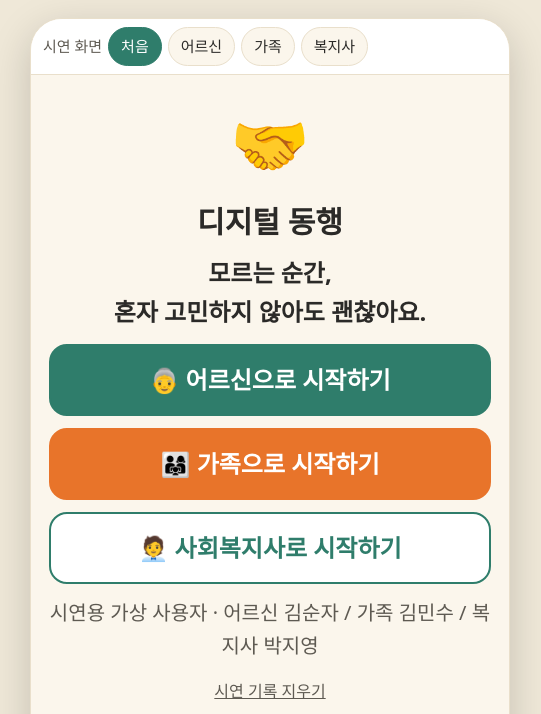
Test: 디지털 동행 주요 흐름 › TEST 1: 시작 화면 → 어르신으로 시작 → 홈
Expected: the text "모르는 순간,혼자 고민하지 않아도 괜찮아요." is shown, [114,256,426,328]
Click the button "👵 어르신으로 시작하기" at (270, 380), box [49,344,491,416]
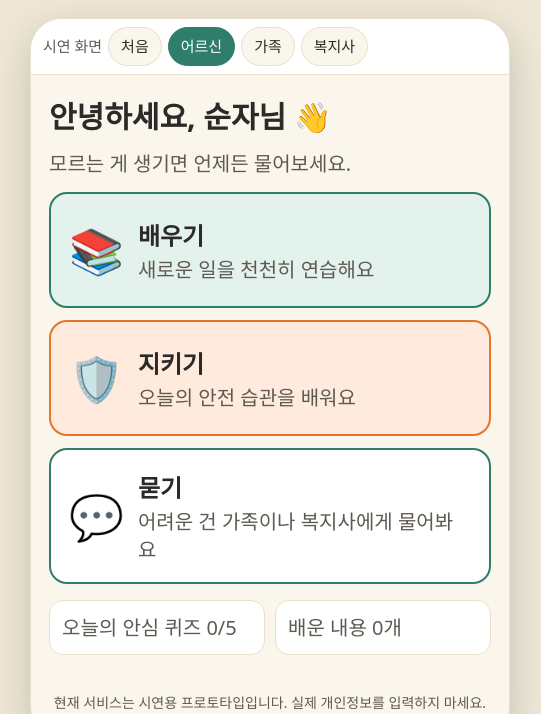
Result: the heading "안녕하세요, 순자님 👋" is shown at [49,96,331,137]
